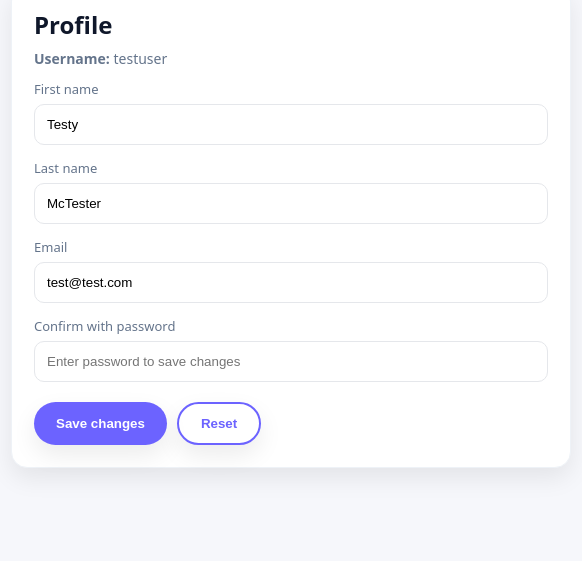
shows error alert on failure
In the password field labelled "Confirm with password": (291, 362) [34, 341, 548, 382], type "wrongpass"
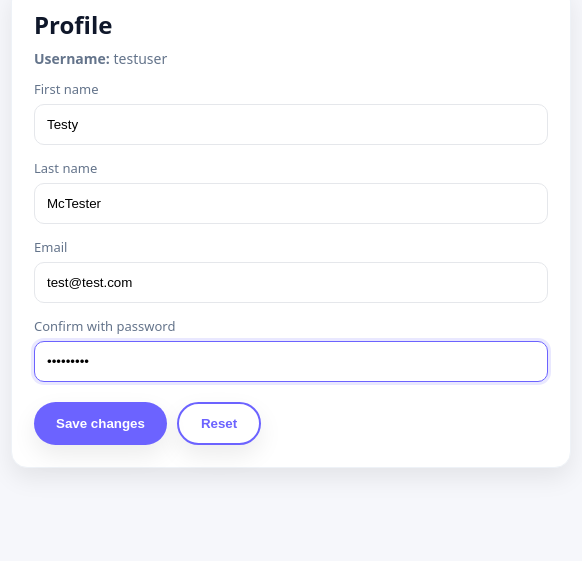
Click the button "Save changes": (100, 424) [34, 402, 167, 445]
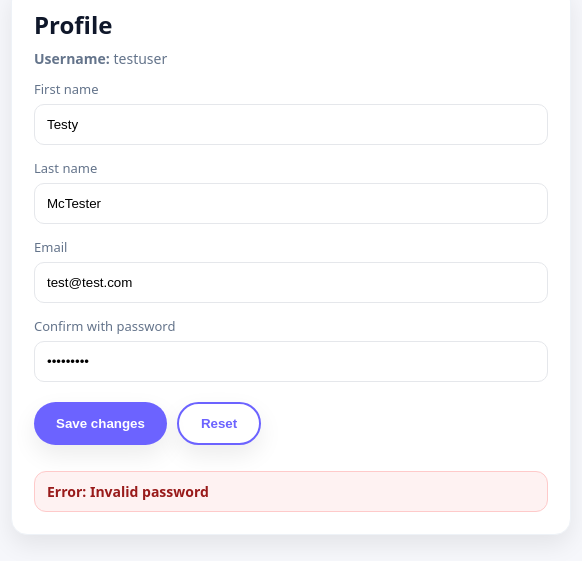
Now the text "Error: Invalid password" is shown, box [34, 471, 548, 512]
